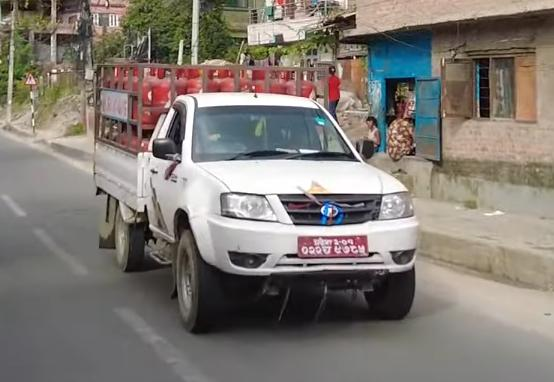transport_vehicle: (83, 41, 420, 337)
